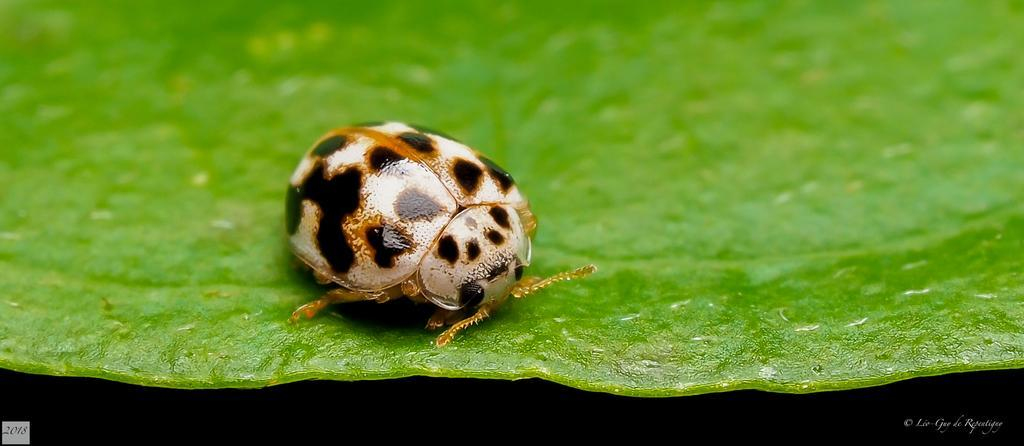ladybug: (285, 119, 601, 351)
